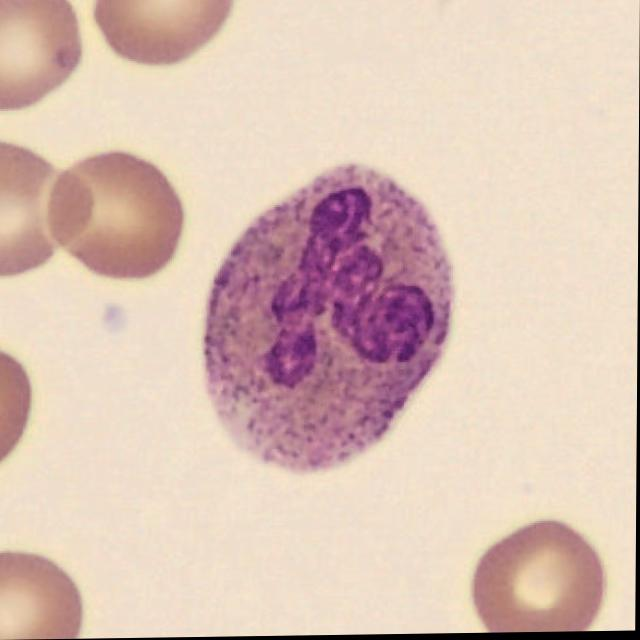Neutrofilo segmentado: (203, 162, 455, 474)
